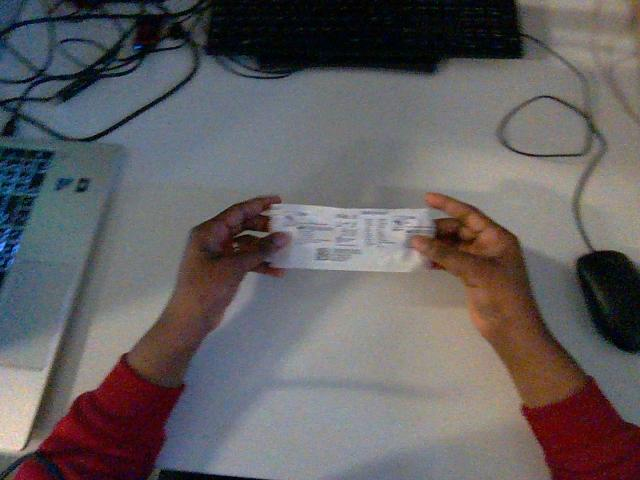syringe: (269, 204, 434, 271)
